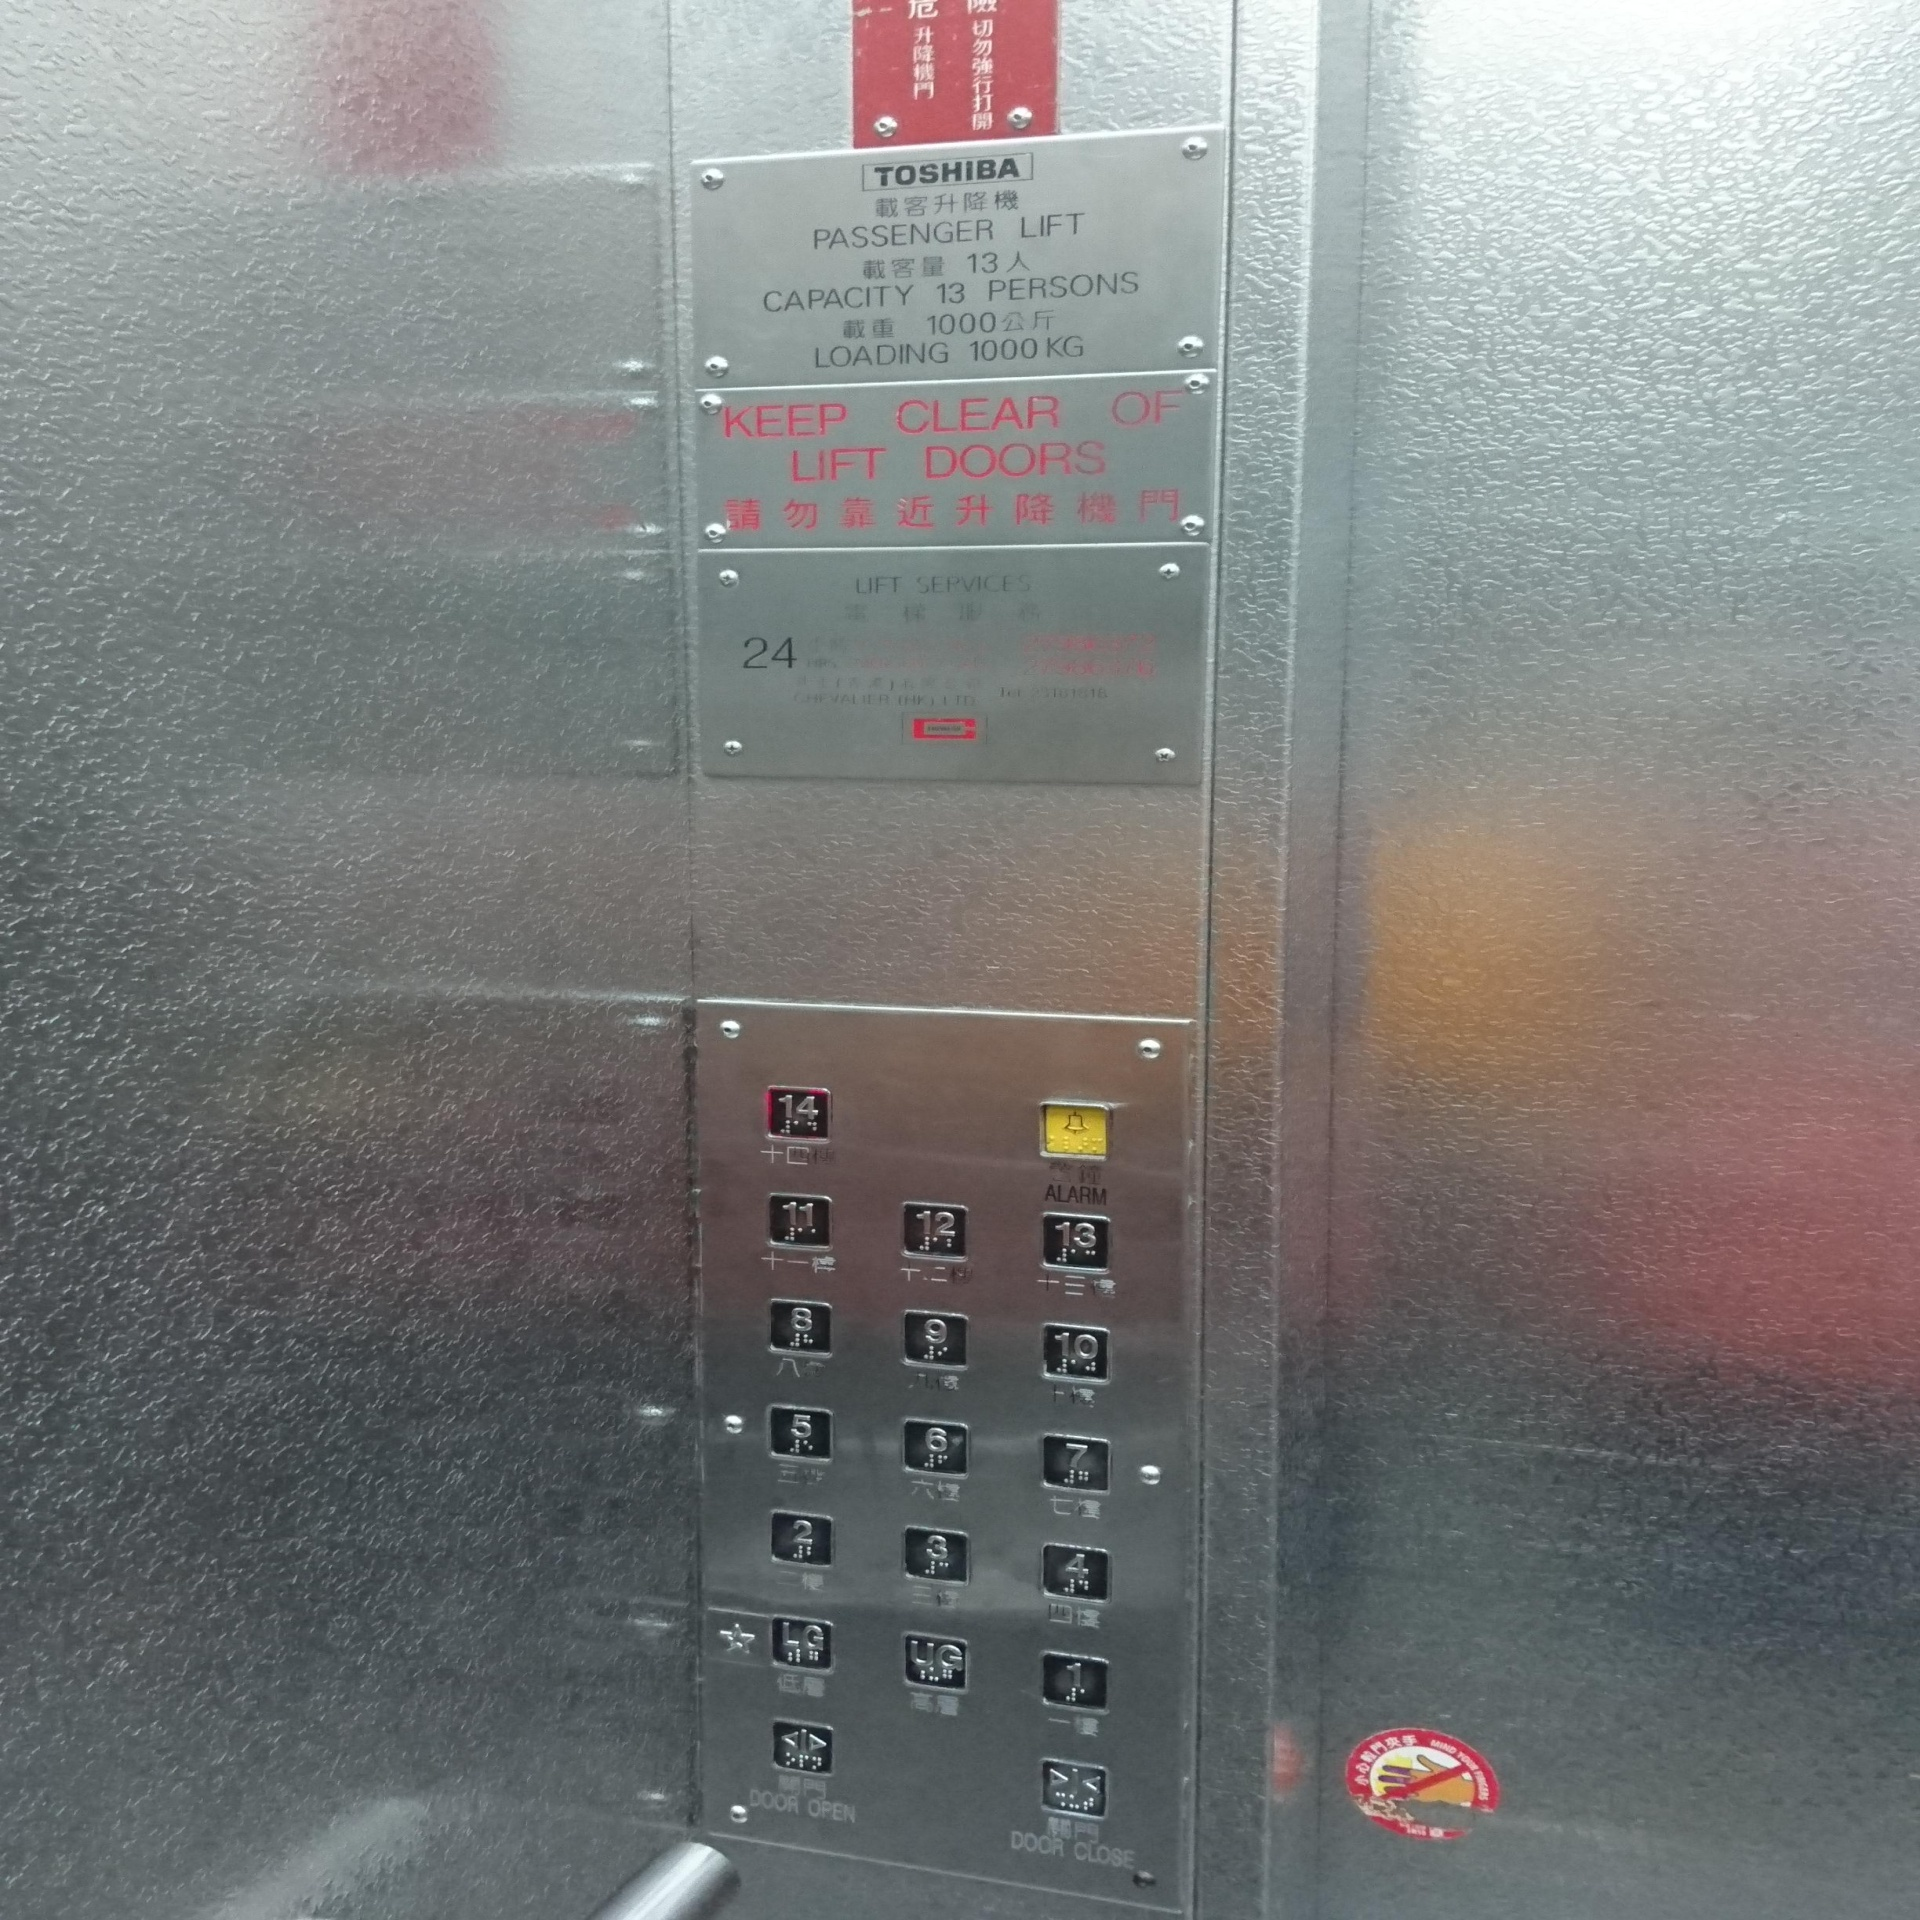1: (1037, 1646, 1115, 1720)
10: (1037, 1319, 1115, 1387)
11: (765, 1189, 833, 1254)
12: (900, 1199, 969, 1262)
13: (1037, 1208, 1111, 1276)
14: (763, 1081, 835, 1143)
2: (768, 1507, 839, 1568)
3: (902, 1524, 972, 1588)
4: (1039, 1540, 1111, 1605)
5: (761, 1401, 837, 1466)
6: (900, 1415, 972, 1482)
7: (1041, 1429, 1113, 1498)
8: (768, 1296, 833, 1361)
9: (900, 1306, 972, 1375)
LG: (767, 1612, 835, 1681)
UG: (898, 1630, 972, 1698)
alarm: (1039, 1095, 1113, 1162)
close: (1037, 1753, 1111, 1822)
open: (768, 1713, 839, 1778)
